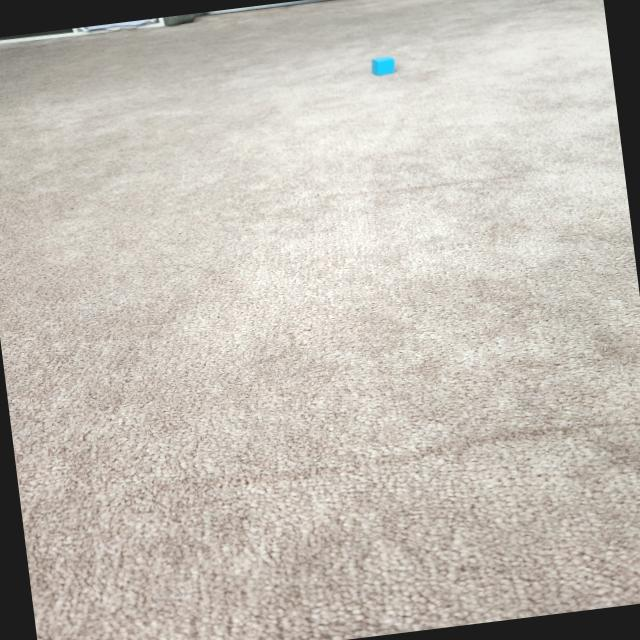bluecube: (370, 54, 397, 76)
